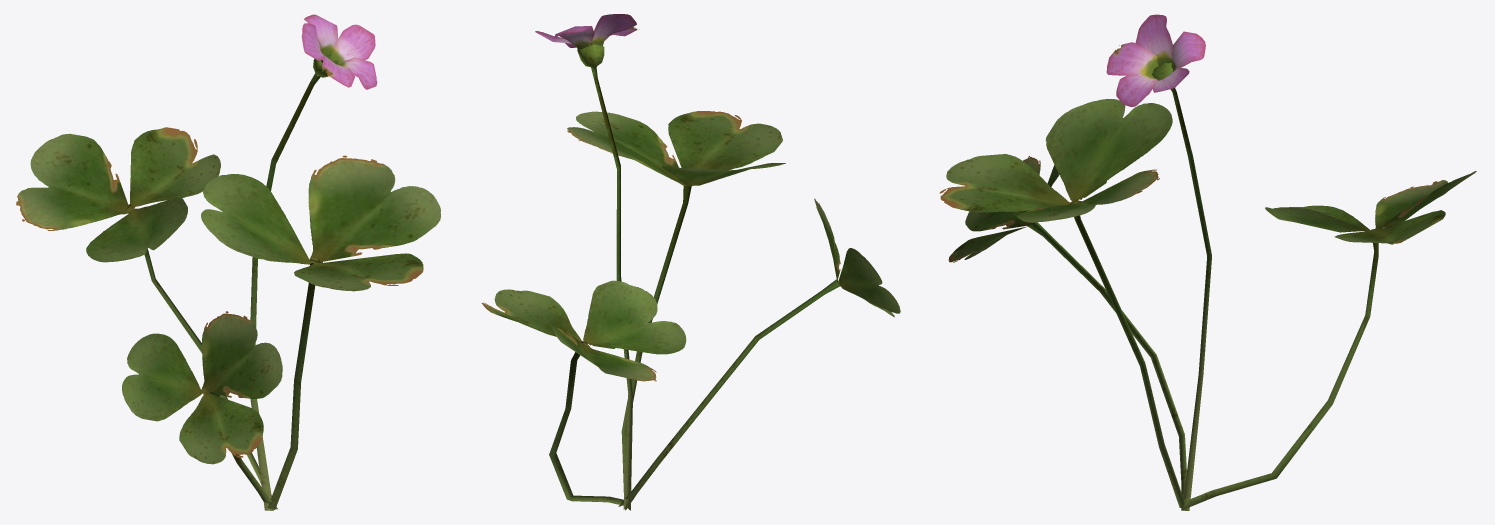
The model's file is shrub_sorrel_01.glb.
3 renders of one model, left to right at view 1: azimuth 30°, elevation 25°; view 2: azimuth 150°, elevation 25°; view 3: azimuth 270°, elevation 25°, orthographic. The views are drawn at different scales.
Visible parts, largest first — view 1: shrub_sorrel_01_a; view 2: shrub_sorrel_01_a; view 3: shrub_sorrel_01_a.
Boxes of the visible parts, x1=… form: shrub_sorrel_01_a: x1=16, y1=14, x2=440, y2=510; shrub_sorrel_01_a: x1=481, y1=14, x2=900, y2=510; shrub_sorrel_01_a: x1=939, y1=14, x2=1476, y2=510.
Bounding box in the file's own units: 0.0384 × 0.0563 × 0.0553.
Materials: 1 (1 with a texture image).
